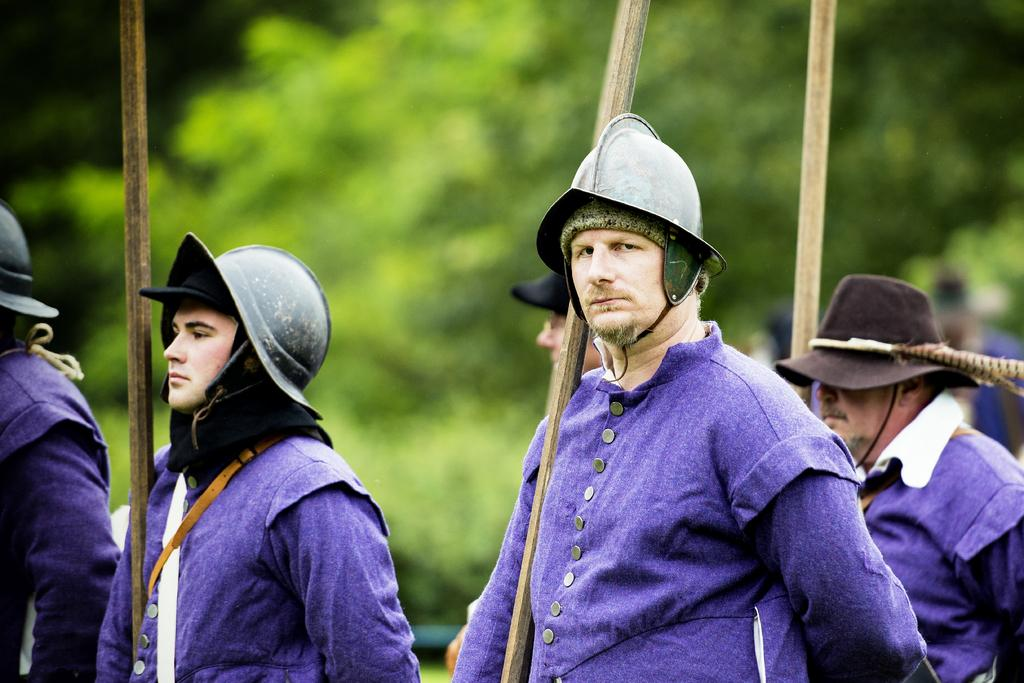Hat: (770, 273, 982, 467)
